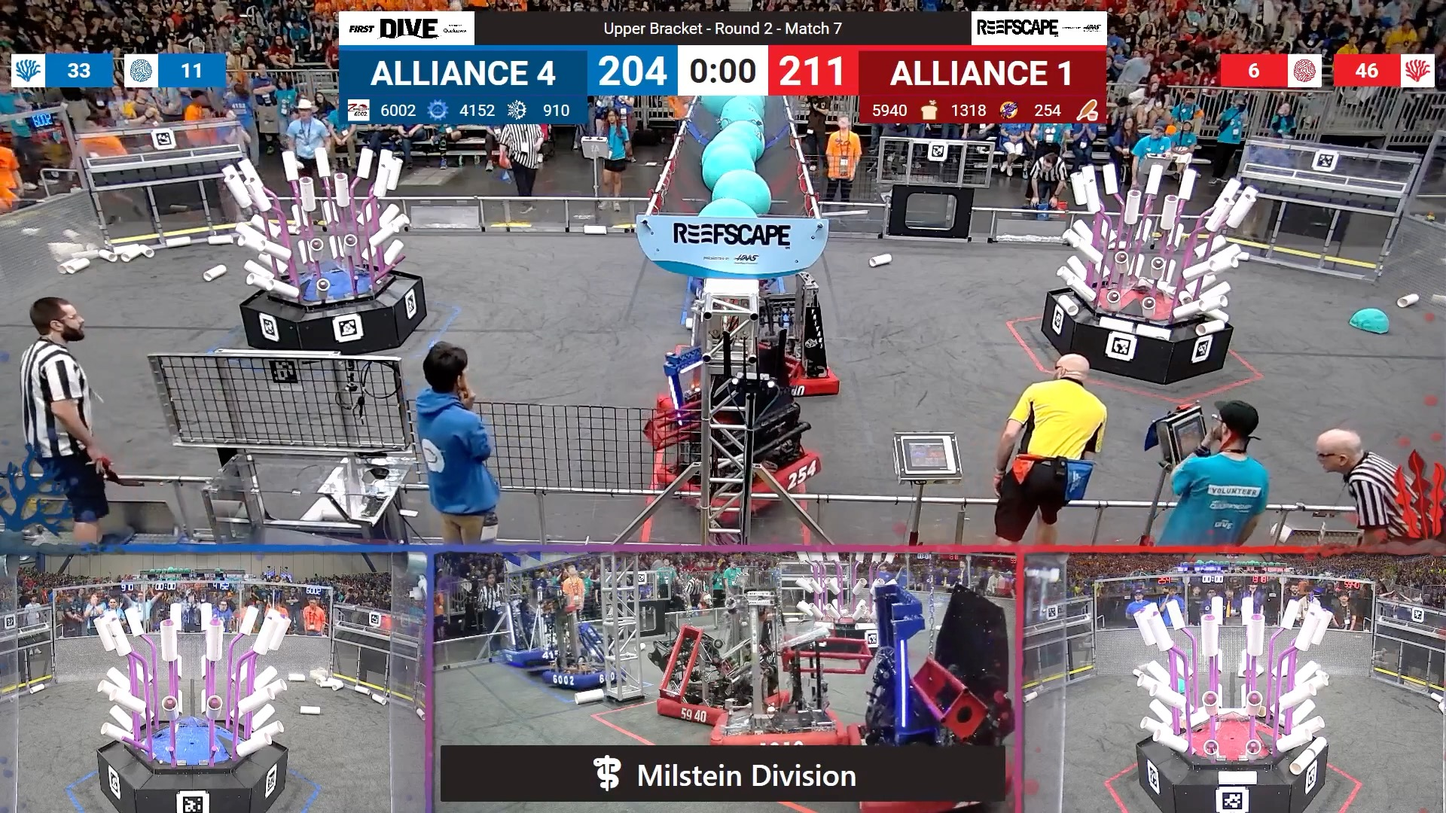bumpers: (648, 428, 832, 520), (705, 707, 855, 748), (772, 358, 846, 400), (526, 661, 623, 689), (655, 693, 737, 725), (494, 650, 562, 671)
